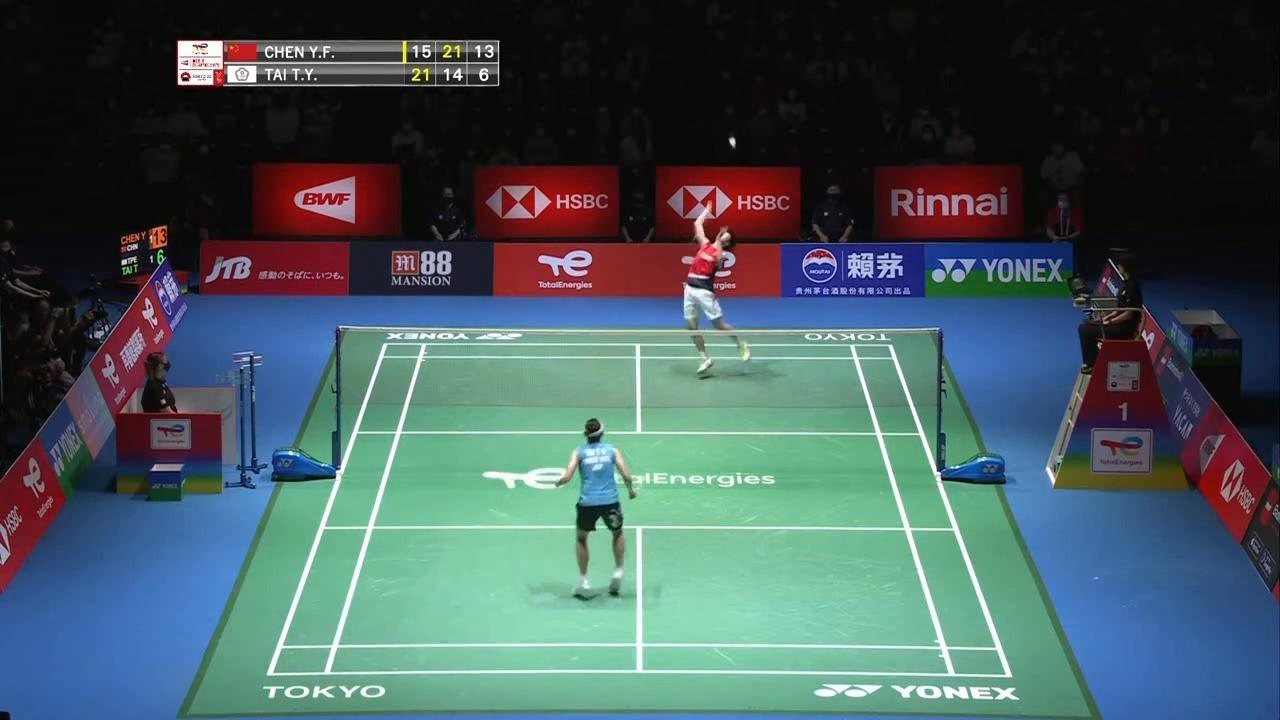shuttle: (727, 133, 740, 150)
